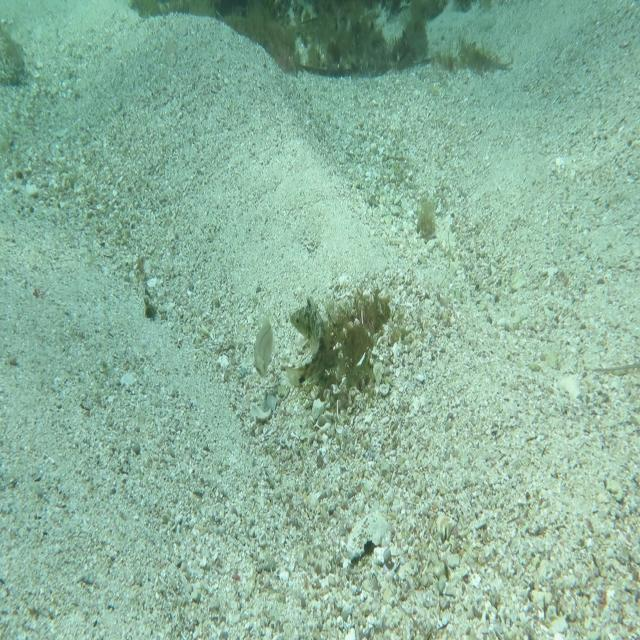DAN_CIRC: (284, 293, 330, 397)
female: (246, 310, 278, 380)
nest: (300, 281, 396, 418)
vegetation: (131, 0, 527, 32), (261, 26, 440, 83), (412, 197, 440, 250)
